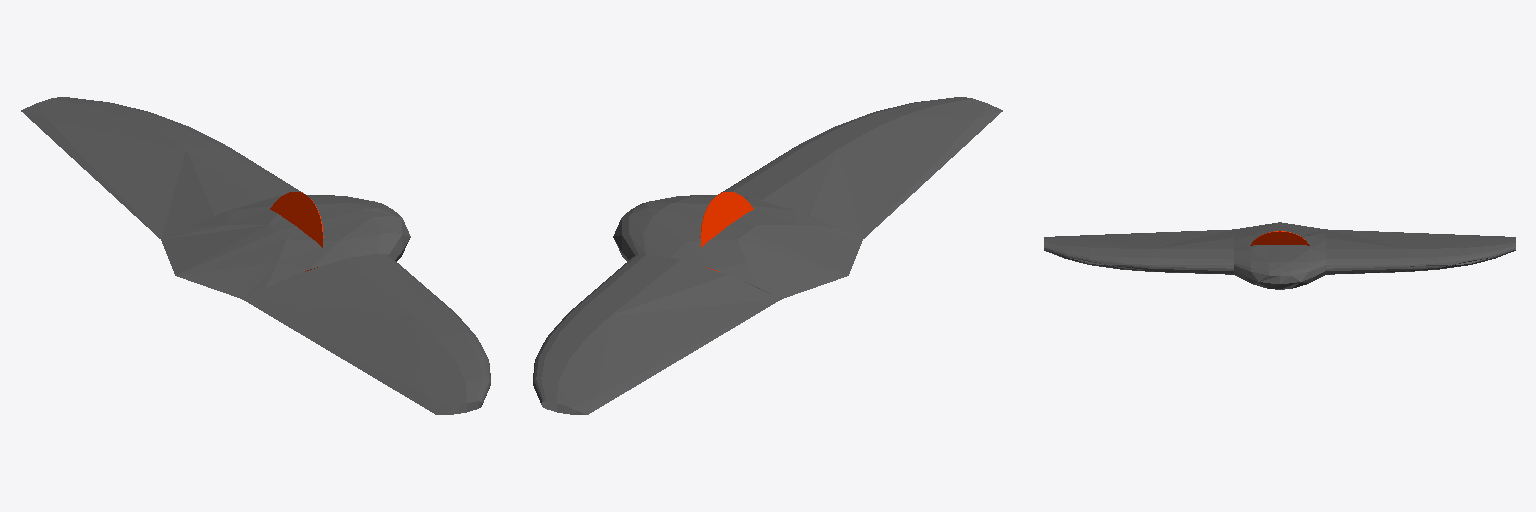
robot.urdf — fixed_wing:
<?xml version="1.0" ?>

<robot name="fixed_wing">

  <material name="white">
    <color rgba="1. 1. 1. 1.0"/>
  </material>

  <material name="black">
    <color rgba="0. 0. 0. 1.0"/>
  </material>

  <material name="blue0">
    <color rgba="15./255. 141./255. 238./255. 1.0"/>
  </material>

  <material name="darkgrey">
    <color rgba="0.4 0.4 0.4 1.0"/>
  </material>

  <material name="blue1">
    <color rgba="0.06 0.46 0.9 0.6"/>
  </material>

  <material name="orange_red">
    <color rgba="1 0.25 0 0.4"/>
  </material>

  <configuration type="_winged_physics"/>


  <properties arm="0.0" kf="0" km="0" thrust2weight="0" max_speed_kmh="0" gnd_eff_coeff="0" prop_radius="0" drag_coeff_xy="0" drag_coeff_z="0" dw_coeff_1="0" dw_coeff_2="0" dw_coeff_3="0"/>

  <control>
     <indi actuator_nr="4" output_nr="4" />
    <indi_1 roll="   450. 0. 0 0." />
    <indi_2 pitch="  0. 2200. 0. 0." />
    <indi_3 yaw="    0. 0. 250. 0." />
    <indi_4 thrust=" 0 0 0 -400" />

    <indi_guidance_gains>
      <pos kp="1.3" kd="1."/>
    </indi_guidance_gains>

    <indi_att_gains>
      <att  p="30" q="35." r="35" />
      <rate p="7." q="5" r="7." />
    </indi_att_gains>

    <pwm>
      <pwm2rpm scale="0. 0. 0. 0." const="0. 0. 0. 0." />
      <limit min="-0.45  -0.61  -0.45  0" max="0.45  0.61  0.45  1." />
    </pwm>
  </control>

   <aero_coeffs>
    <ref rho="1.225" alpha0="0.47" Sref="0.075" Bref="0.7" Cref="0.105" oswald="0.9" AR="6.5" M="60" actuator_nr="4"/>
    <CL CL0="0.48115"   CL_alpha="4.28" CL_q="6.689983"   CL_del_e="0.13"/>
    <CD CD0="0.06130" CD_q="0.0"  CD_del_e="0.0135"/>
    <CY CY0="0.0"   CY_beta="-0.049996"  CY_p="0.088261" CY_r="-0.009328"  CY_del_r="0" CY_del_a="0.075"/>
    <Cl Cl_beta="-0.047674"  Cl_p="-0.443968" Cl_r="0.119986" Cl_del_a="0.17" Cl_del_r="0.045"/>
    <Cm Cm0="0.11072" Cm_alpha="-2.74" Cm_q="-2.406242" Cm_del_e="-0.99"/>
    <Cn Cn_beta="0.005068"  Cn_p="-0.034716" Cn_r="-0.004010" Cn_del_a="-0.0110" Cn_del_r="-0.095"/>
  </aero_coeffs>

  <motor_coeffs>
    <ref prop_angle="0.35"/>
  </motor_coeffs>

  <link name="base_link">
    <inertial>
      <origin rpy="0 0 0" xyz="0.026 0. 0"/>
      <mass value="0.728"/>
      <inertia ixx="0.0061" iyy="0.0010" izz="0.0058"/>
    </inertial>

    <visual>
      <origin rpy="0 0. 0" xyz="0.026 0. 0.0"/>
      <geometry>
        <mesh filename="./Falcon.obj" scale="1. 1. 1."/>
      </geometry>
      <material name="darkgrey"/>
    </visual>

    <collision>
      <origin rpy="0 0 0" xyz="0.026 0. 0"/>
      <geometry>
        <cylinder radius="0.15" length=".1"/>
        <mesh filename="./Falcon.obj" scale="1. 1. 1."/>
      </geometry>
    </collision>
  </link>

  <link name="center_of_mass_link">
    <inertial>
      <origin rpy="0 0 0" xyz="0.026 0. 0"/>
      <mass value="0"/>
      <inertia ixx="0" ixy="0" ixz="0" iyy="0" iyz="0" izz="0"/>
    </inertial>
  </link>
  <joint name="center_of_mass_joint" type="fixed">
    <parent link="base_link"/>
    <child link="center_of_mass_link"/>
  </joint>

  <link name="aerodynamic_center_link">
    <inertial>
      <origin rpy="0 0 0" xyz="0.026 0. 0"/>
      <mass value="0"/>
      <inertia ixx="0" ixy="0" ixz="0" iyy="0" iyz="0" izz="0"/>
    </inertial>
  </link>
  <joint name="aerodynamic_center_joint" type="fixed">
    <parent link="base_link"/>
    <child link="aerodynamic_center_link"/>
  </joint>

  <link name="prop_link">
    <inertial>
      <origin rpy="0 0. 0" xyz="0.0 0 0.0"/>
      <mass value="0"/>
      <inertia ixx="0" ixy="0" ixz="0" iyy="0" iyz="0" izz="0"/>
    </inertial>
    <visual>
      <origin rpy="0 1.92 0" xyz="0.0 0 0.0"/>
      <geometry>
        <cylinder radius="0.07" length=".001"/>
      </geometry>
      <material name="orange_red"/>
    </visual>
  </link>
  <joint name="prop_joint" type="fixed">
    <parent link="base_link"/>
    <child link="prop_link"/>
  </joint>

  

</robot>

--- Render facts (derived) ---
3 views of the same robot in one strip: view 1: azimuth 30°, elevation 25°; view 2: azimuth 150°, elevation 25°; view 3: azimuth 270°, elevation 25° (orthographic).
Robot: fixed_wing — 4 links, 3 joints (3 fixed); root link base_link; default pose: all joints at 0.
Links seen in each view (by area): view 1: base_link, prop_link; view 2: base_link, prop_link; view 3: base_link, prop_link.
Link boxes in pixels (bbox=[...]): base_link: bbox=[21, 97, 490, 414]; prop_link: bbox=[270, 192, 323, 271]; base_link: bbox=[533, 97, 1002, 414]; prop_link: bbox=[700, 192, 753, 271]; base_link: bbox=[1044, 222, 1515, 289]; prop_link: bbox=[1250, 231, 1309, 245].
Bounding box of the posed robot: 0.3215 × 1.03 × 0.1319 m (x, y, z).
1 mesh visuals loaded from 1 distinct referenced files (1 OBJ).